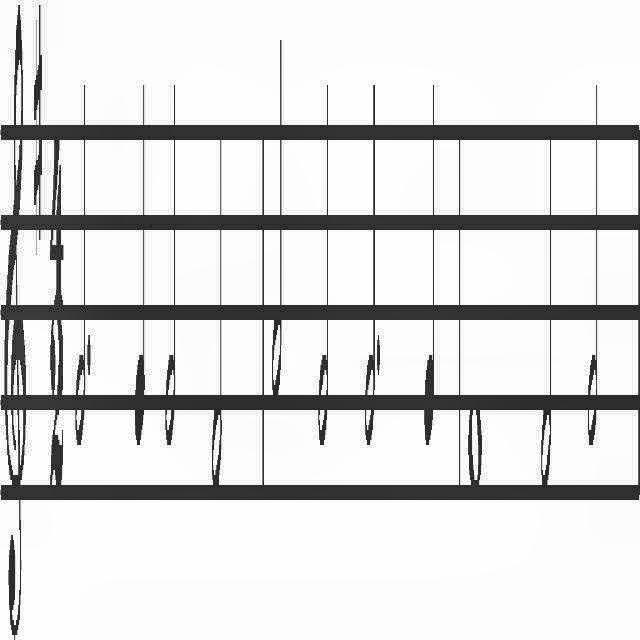Bass-clef: (2, 0, 30, 640)
Diez: (29, 0, 45, 260)
Full-note: (468, 362, 484, 578)
Half-note: (539, 105, 557, 579), (313, 25, 331, 488), (358, 50, 376, 472), (68, 62, 86, 472), (584, 46, 600, 474), (162, 65, 178, 485), (209, 127, 223, 509), (271, 28, 285, 400)
Quarter-note: (422, 30, 438, 478), (130, 59, 146, 454)
